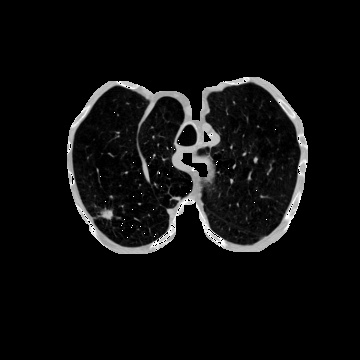PN: (97, 207, 113, 223)
